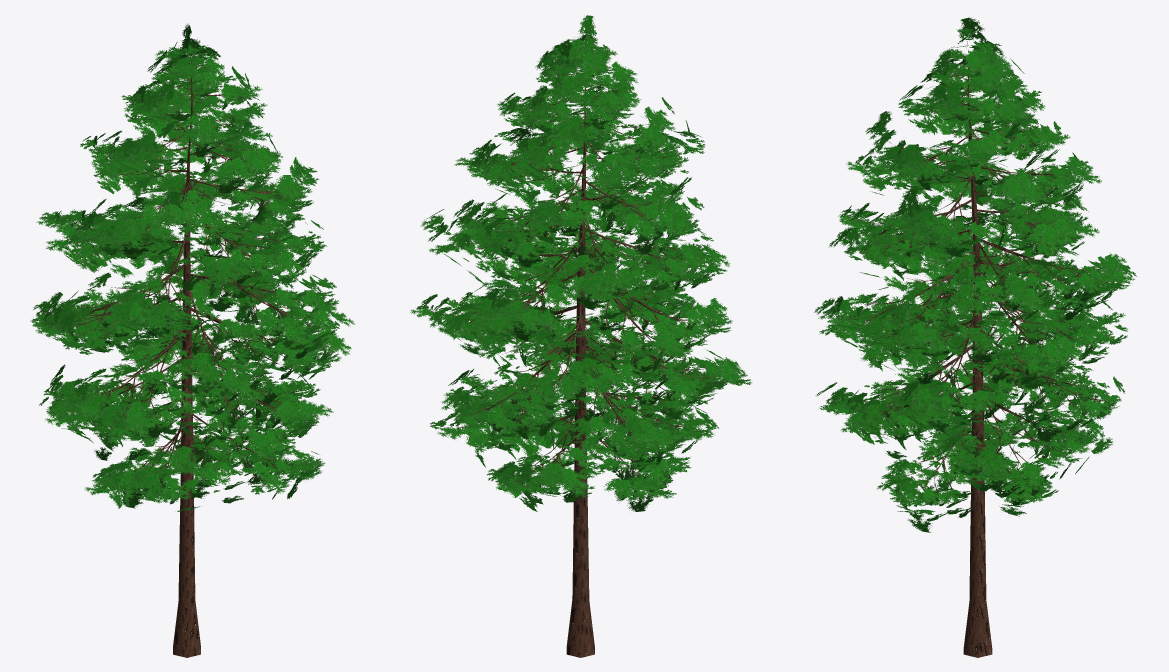
The model's file is baseTree.fbx.
3 views of the same model, side by side, from view 1: azimuth 30°, elevation 25°; view 2: azimuth 150°, elevation 25°; view 3: azimuth 270°, elevation 25° (orthographic).
Visible parts, largest first — view 1: leaves.004, BaseTree; view 2: leaves.004, BaseTree; view 3: leaves.004, BaseTree.
Part boxes in pixels (x1,y1,x2,y2): leaves.004: (30,23,354,511); BaseTree: (54,56,331,657); leaves.004: (410,15,752,511); BaseTree: (436,53,726,657); leaves.004: (814,17,1136,532); BaseTree: (834,41,1112,657).
Bounding box in the file's own units: 1737 × 3370 × 1709.
